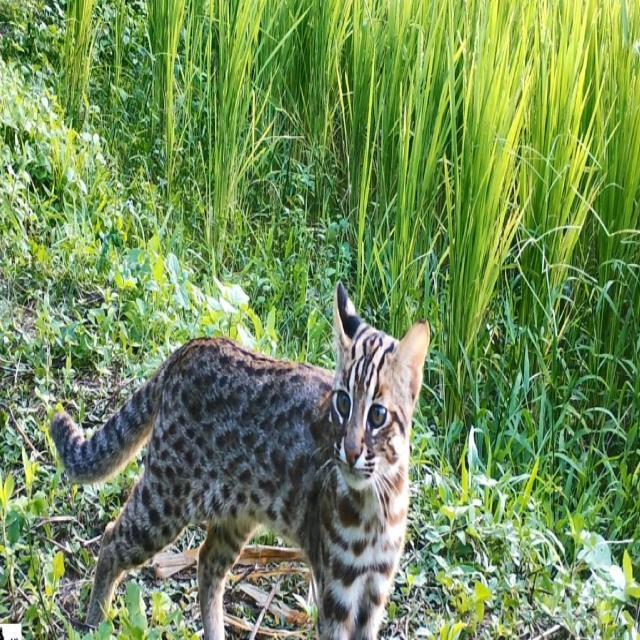leopard: (137, 322, 474, 617)
